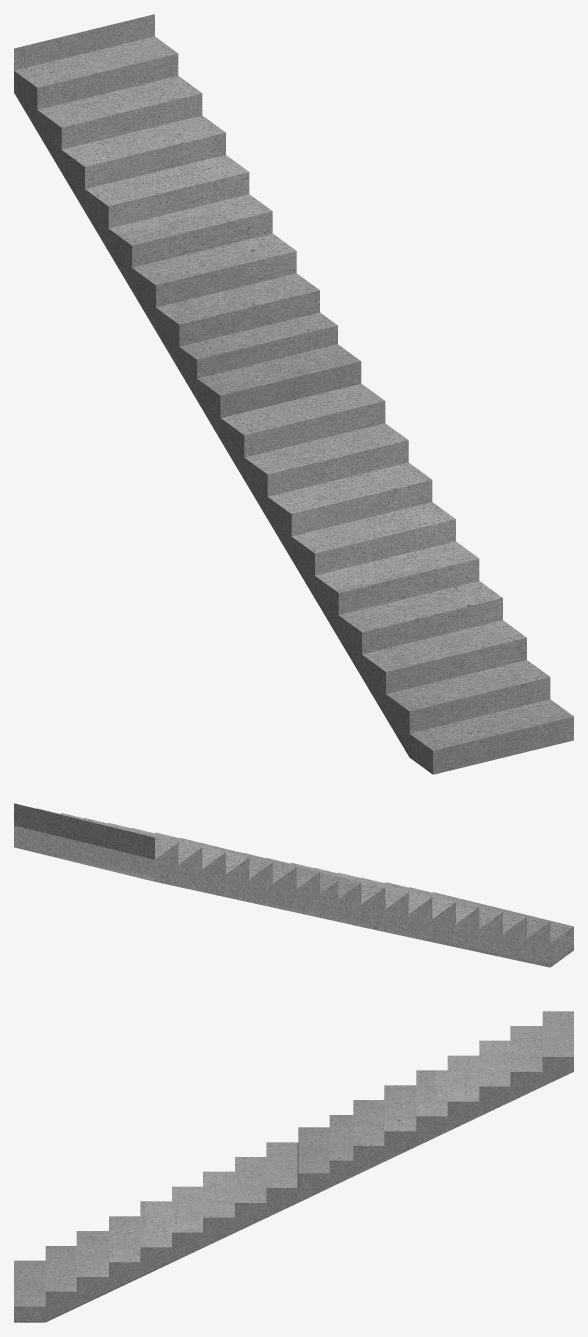
File: Stair_medium_01.FBX
3 views of the same model, one above another, from view 1: azimuth 30°, elevation 25°; view 2: azimuth 150°, elevation 25°; view 3: azimuth 270°, elevation 25° (orthographic). The views are drawn at different scales.
Parts seen in each view (by area): view 1: Stair_medium_01; view 2: Stair_medium_01; view 3: Stair_medium_01.
Part boxes in pixels (x1,y1,x2,y2): Stair_medium_01: (14, 14, 573, 774); Stair_medium_01: (14, 803, 573, 967); Stair_medium_01: (14, 1011, 573, 1322).
Size of the model in its own units: 1.6 by 4.55 by 8.25.
